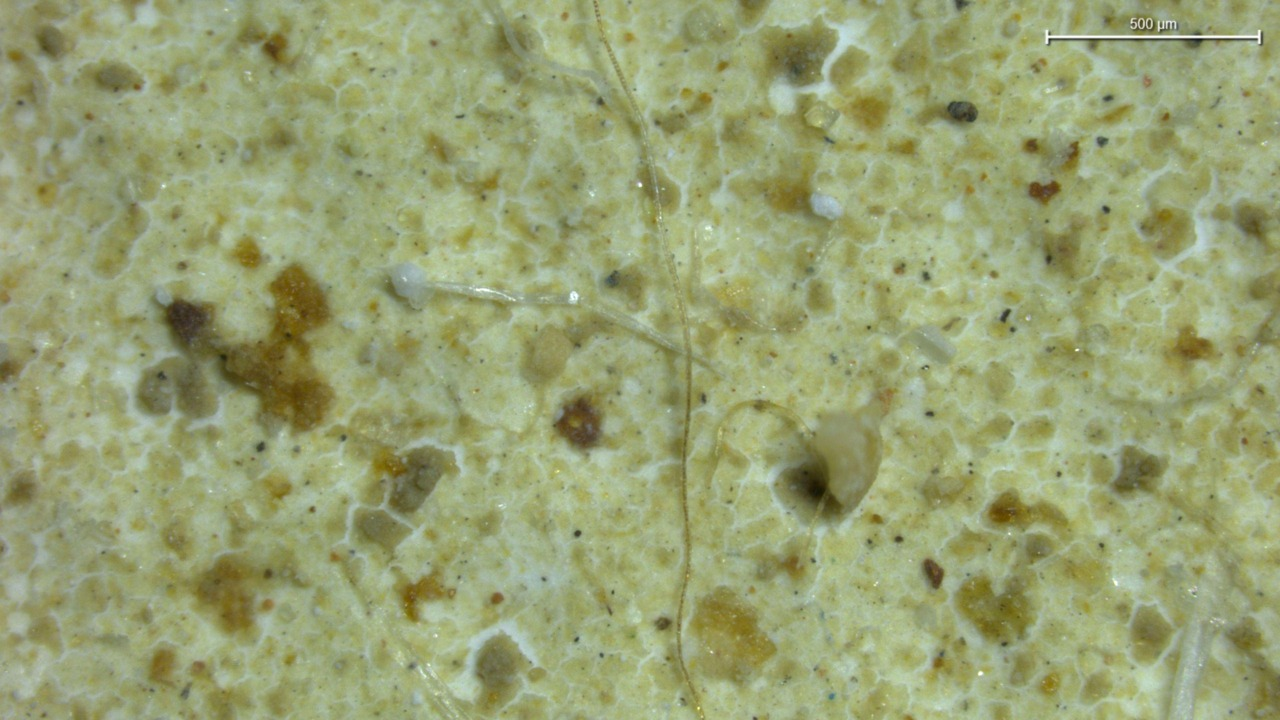microplastic_fragment: (809, 413, 880, 513), (389, 262, 432, 309), (901, 326, 955, 363), (809, 192, 843, 220)
